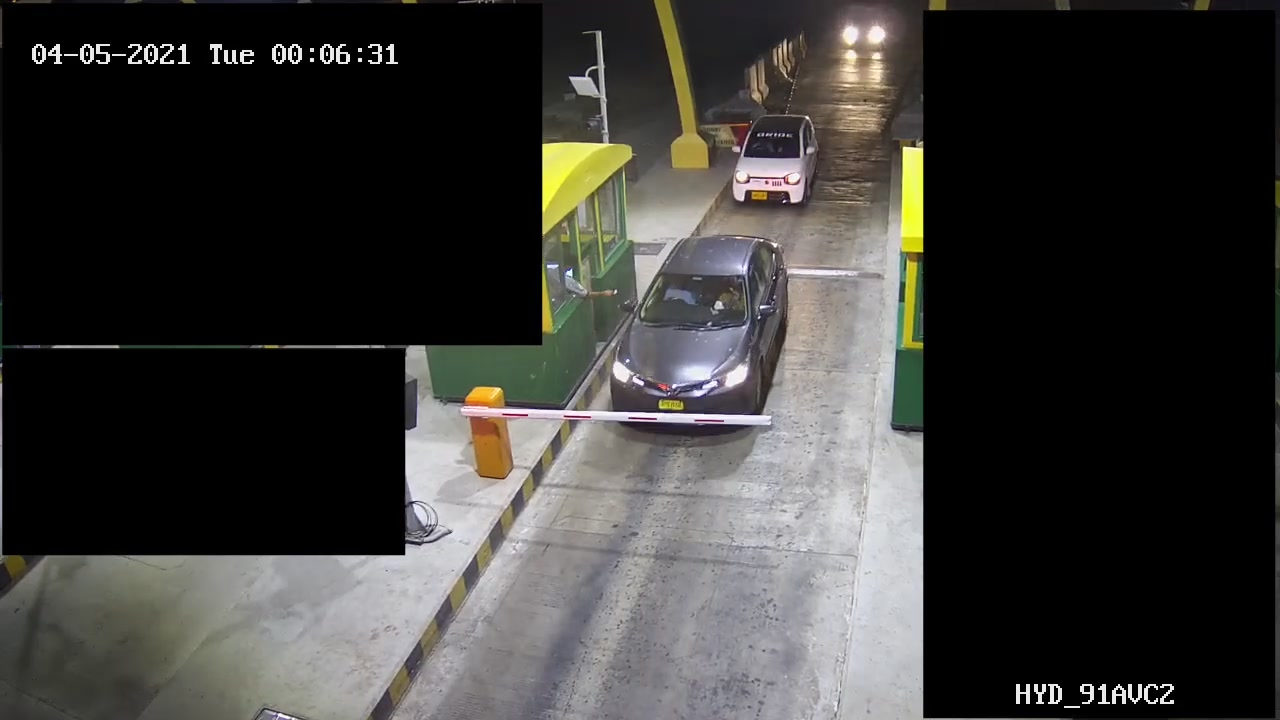F1: (605, 223, 803, 438), (714, 108, 833, 214)
